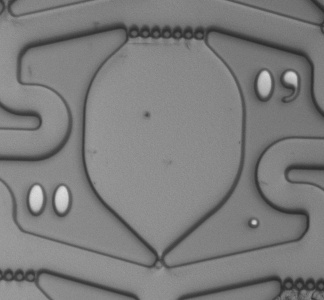AptNum: (248, 61, 308, 109)
Marker: (243, 212, 265, 233)
StNum: (19, 176, 83, 227)
Trap: (131, 257, 188, 300)
